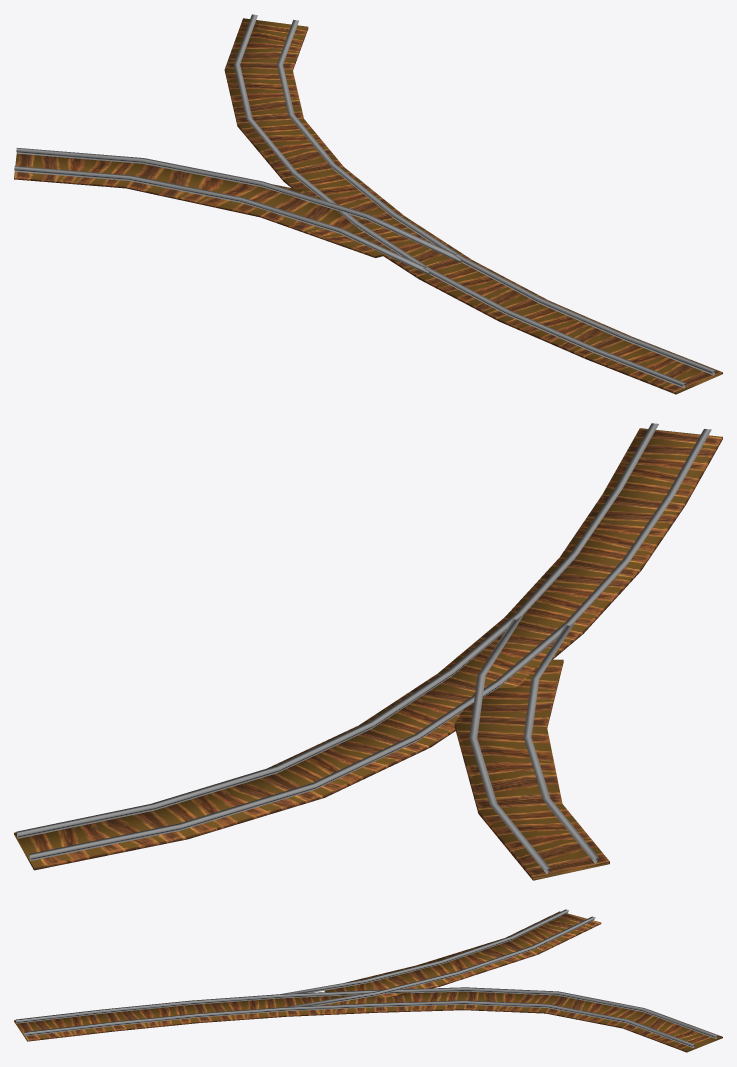
The model's file is SWORDLIGHT20_MAIN1RAILS1S.fbx.
3 views of the same model, one above another, from view 1: azimuth 30°, elevation 25°; view 2: azimuth 150°, elevation 25°; view 3: azimuth 270°, elevation 25° (orthographic). The views are drawn at different scales.
Parts seen in each view (by area): view 1: SWORDLIGHT20_MAIN1RAILS1S; view 2: SWORDLIGHT20_MAIN1RAILS1S; view 3: SWORDLIGHT20_MAIN1RAILS1S.
Boxes of the visible parts, x1,y1,x2,y2 form: SWORDLIGHT20_MAIN1RAILS1S: (14, 14, 722, 394); SWORDLIGHT20_MAIN1RAILS1S: (14, 423, 722, 880); SWORDLIGHT20_MAIN1RAILS1S: (14, 909, 722, 1052).
Size of the model in its own units: 105926 by 5760 by 234326.
Materials: 2 (2 with a texture image).
